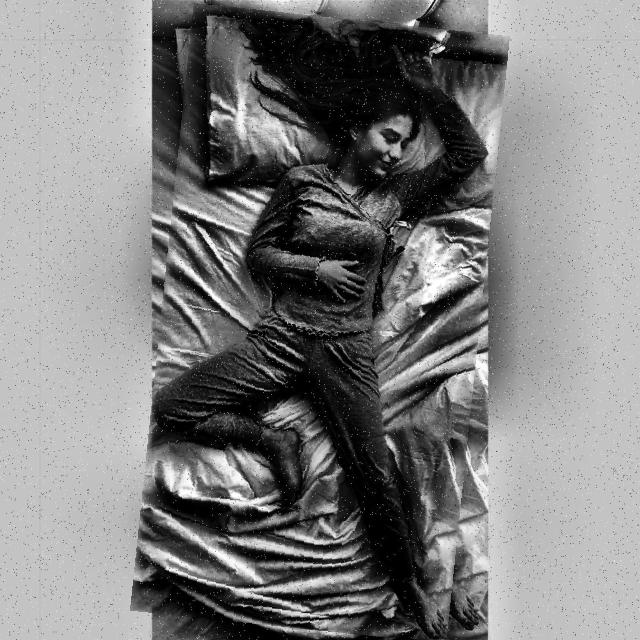Supine: (152, 19, 488, 640)
